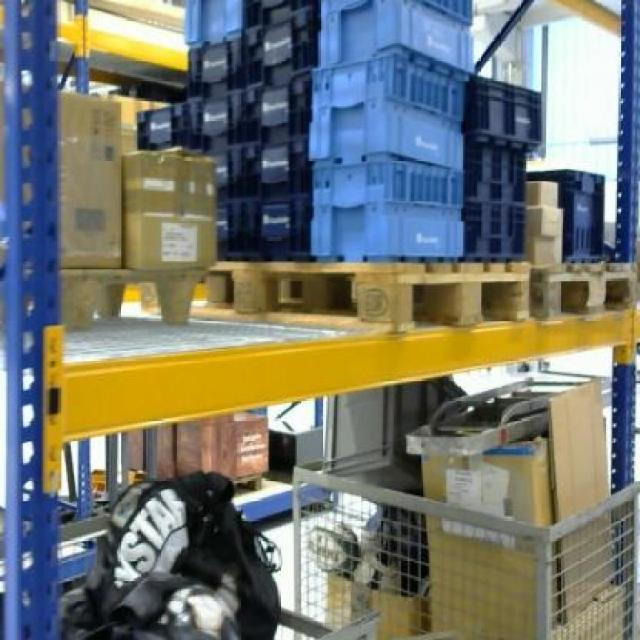box: (428, 448, 547, 624), (57, 91, 120, 267), (123, 151, 217, 267)
